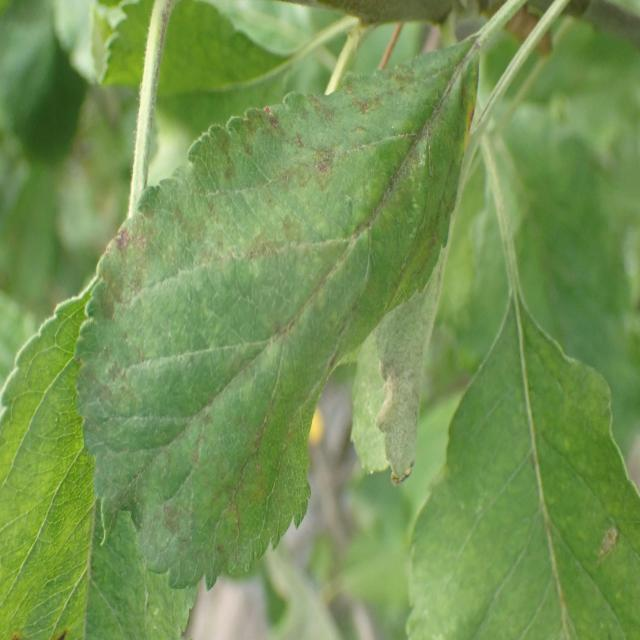scab: (75, 26, 482, 610), (443, 289, 640, 640)
